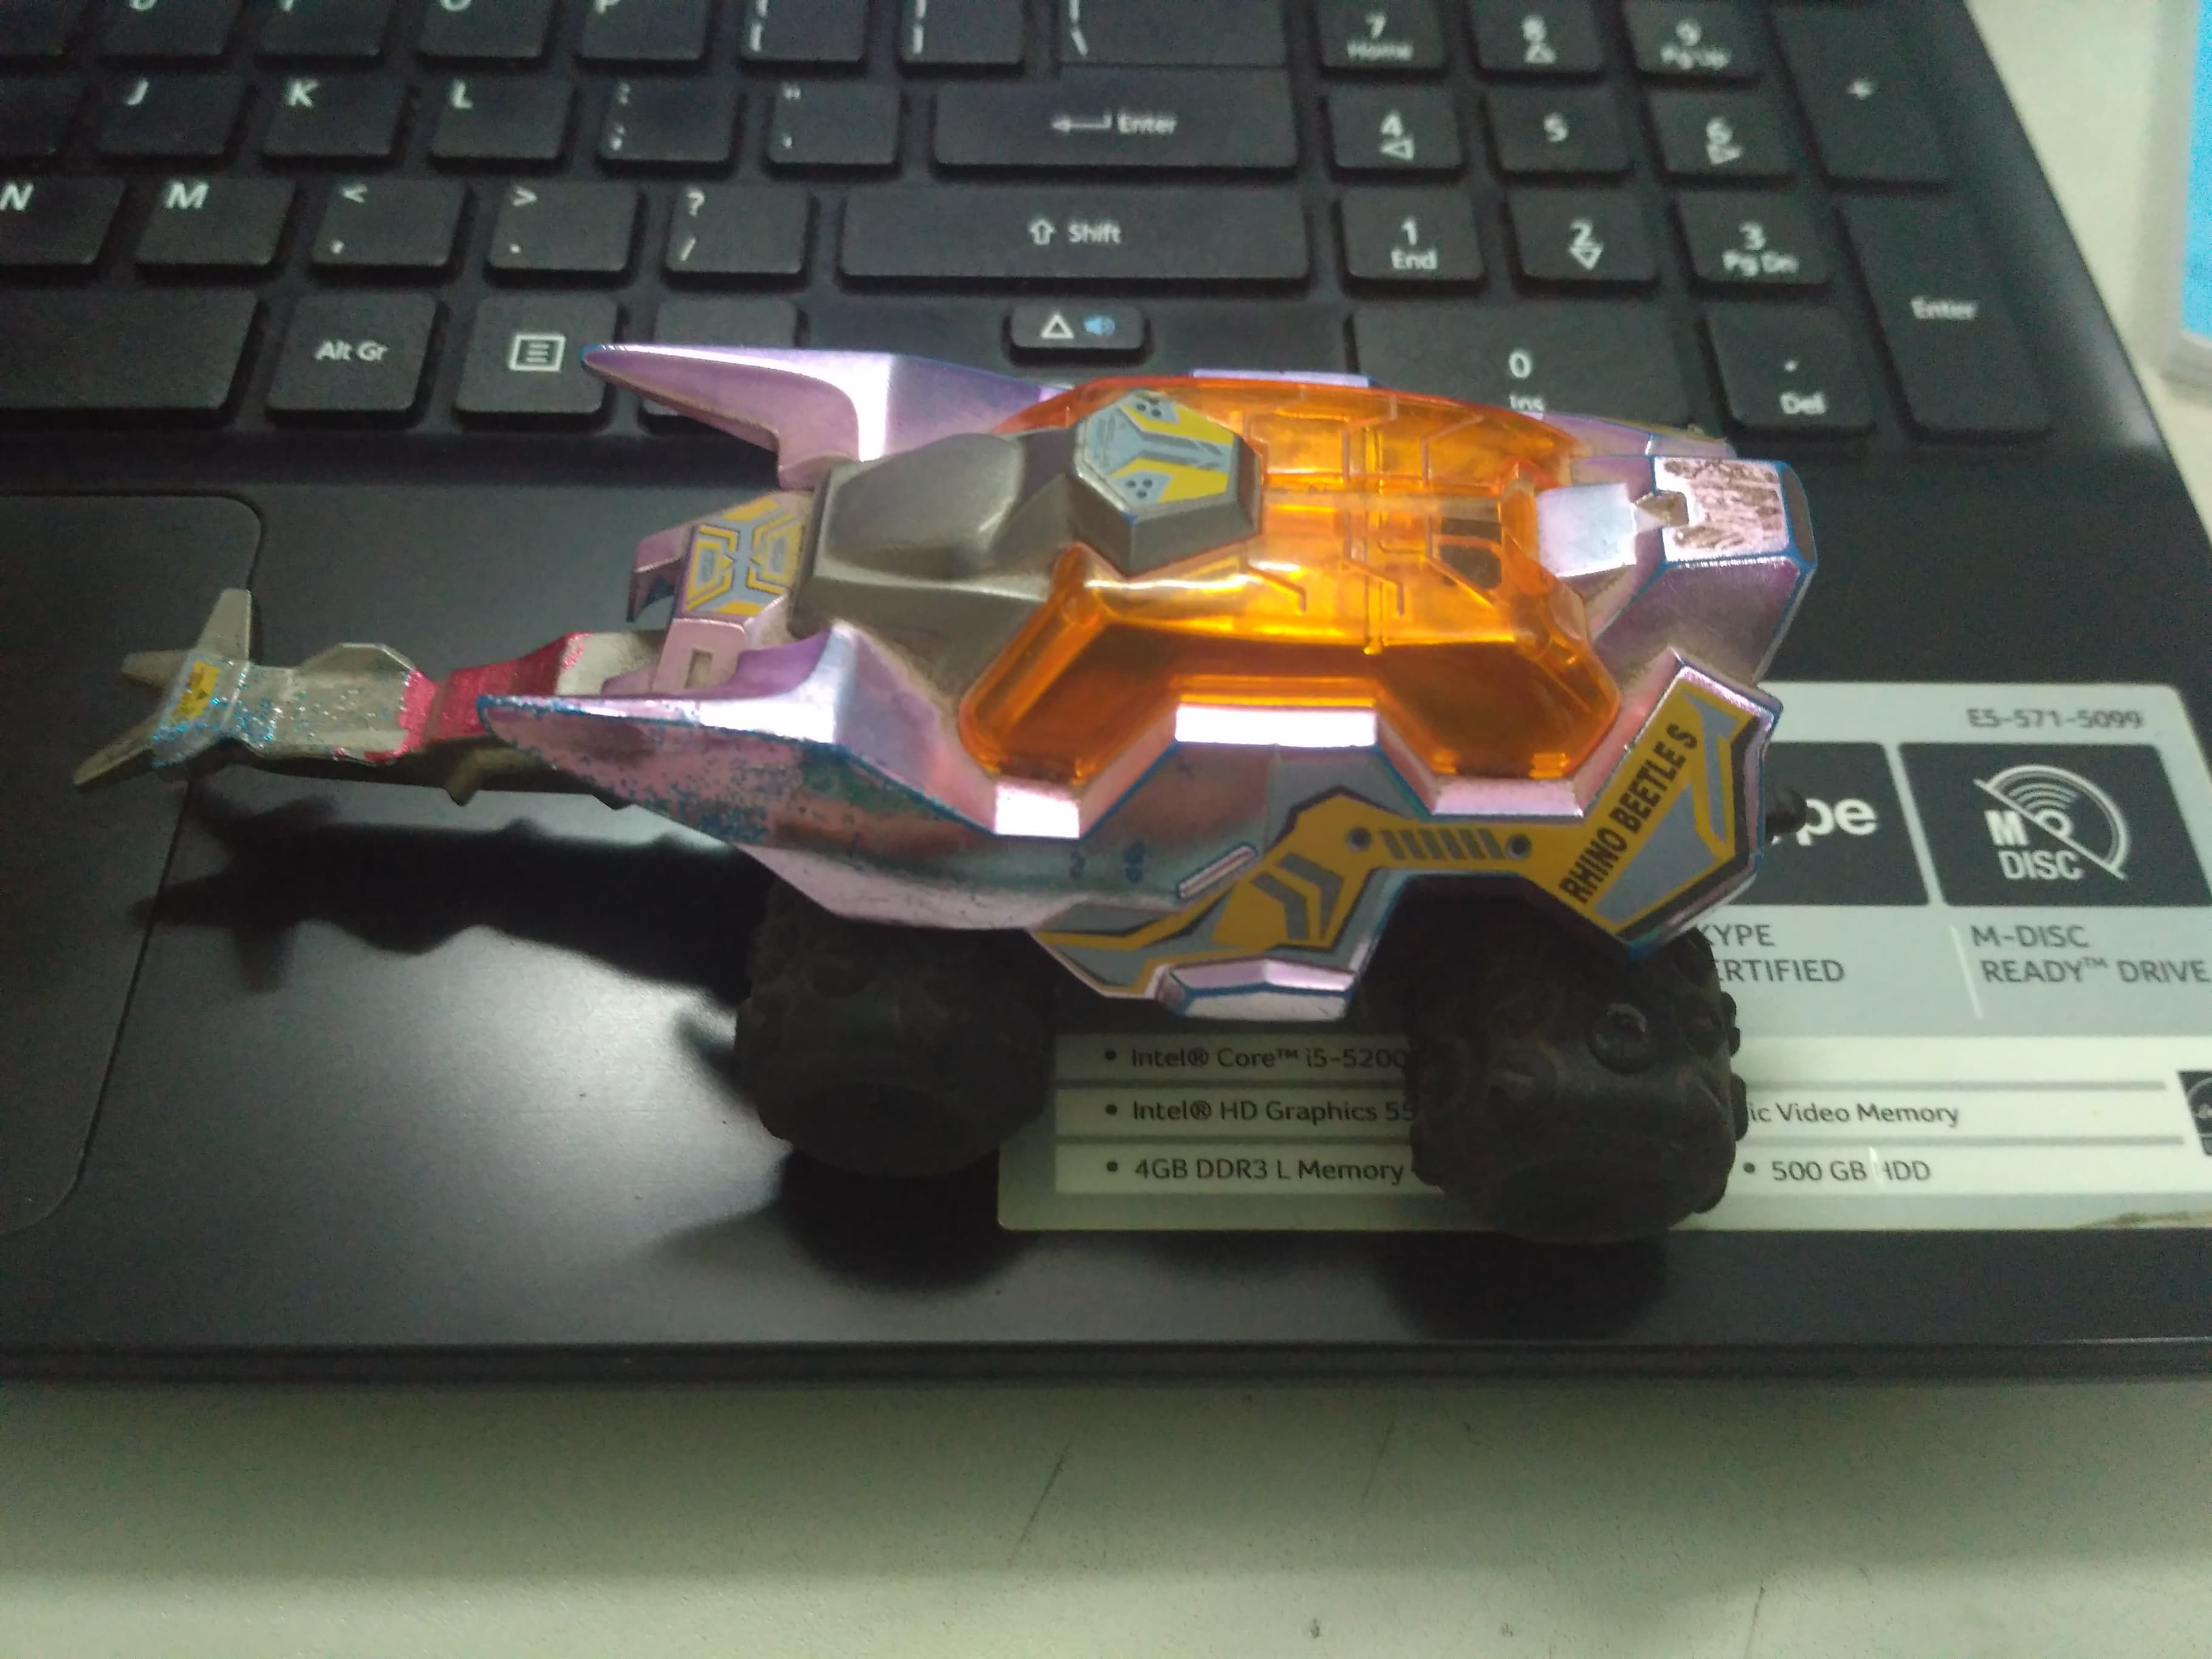rhino: (63, 319, 1825, 1249)
